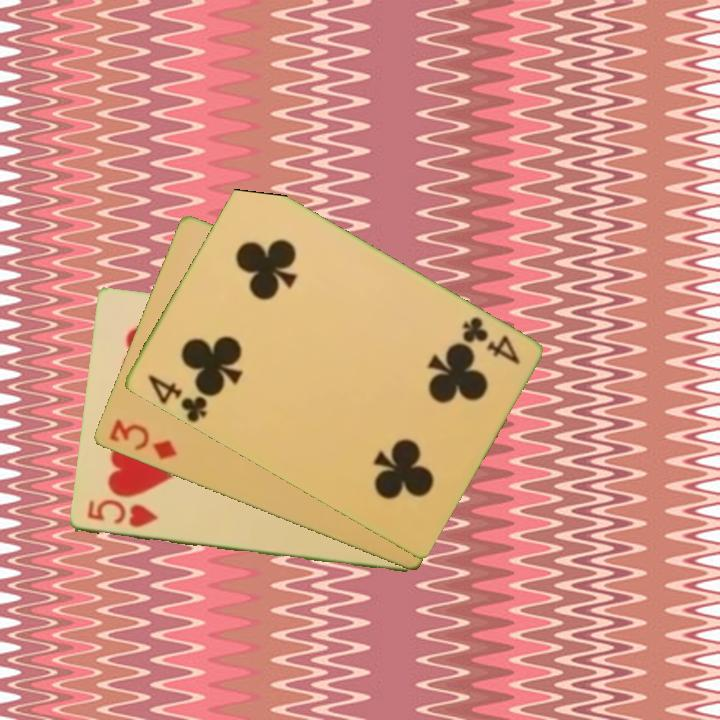3d: (105, 416, 180, 463)
4c: (143, 371, 210, 425), (458, 313, 523, 368)
5h: (83, 497, 160, 531)
